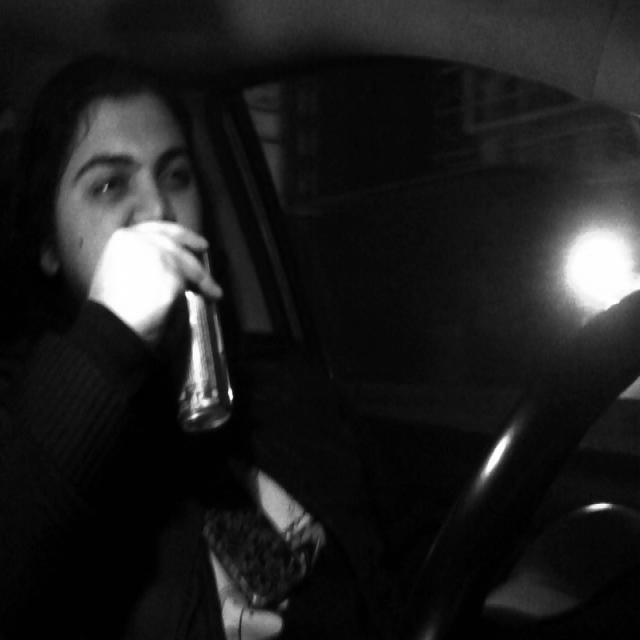Drinking: (167, 236, 236, 431)
